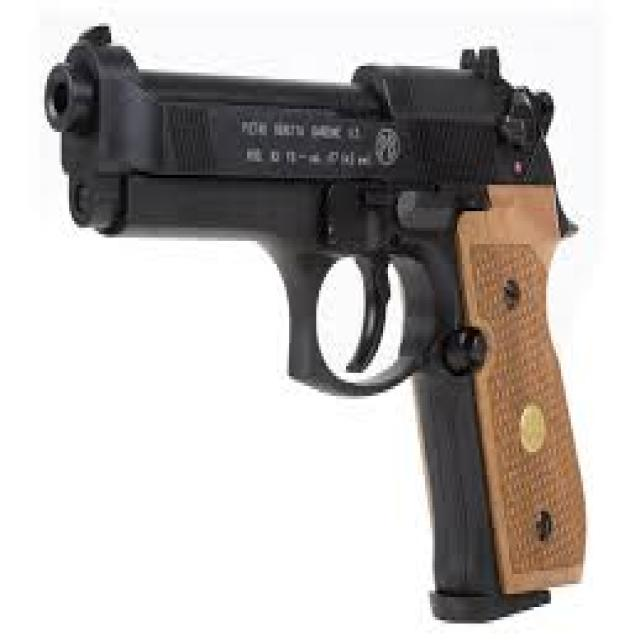pistol: (35, 20, 593, 635)
